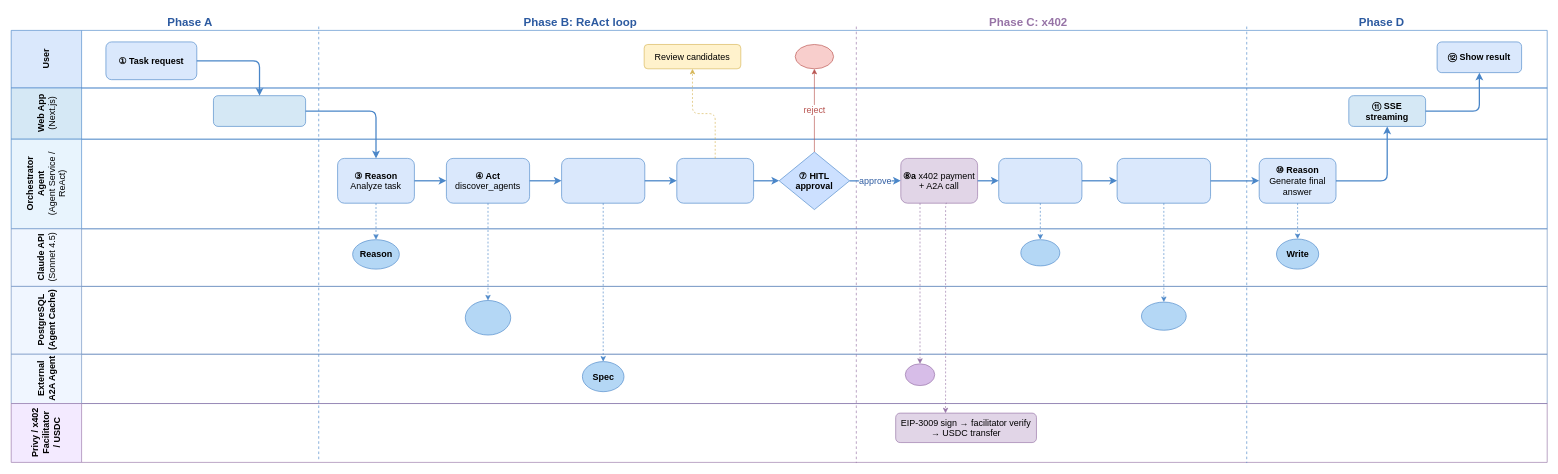
The diagram is 1558 pixels wide and 474 high, and some of its shapes have lost their labels. The shapes that lost their labels are listed below. From the top down, each one's centre as x and y in pixels, then its label:
At pixel 814 56: "End".
At pixel 259 110: "② Start execution (SSE)".
At pixel 603 180: "⑤ Act fetch_agent_spec Fetch agent.json".
At pixel 715 180: "⑥ Observe Rank & present candidates".
At pixel 1040 180: "⑧b LLM evaluation Quality / Reliability".
At pixel 1163 180: "⑧c Store evaluation off-chain attestation".
At pixel 1040 252: "Judge".
At pixel 488 317: "Search".
At pixel 1163 315: "Save".
At pixel 920 374: "Run".
